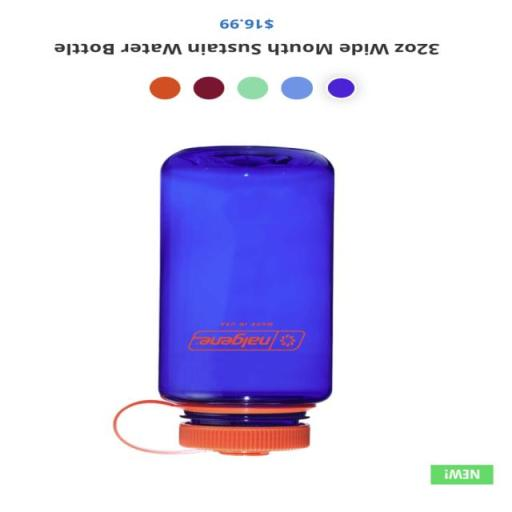bottle: (110, 140, 338, 459)
